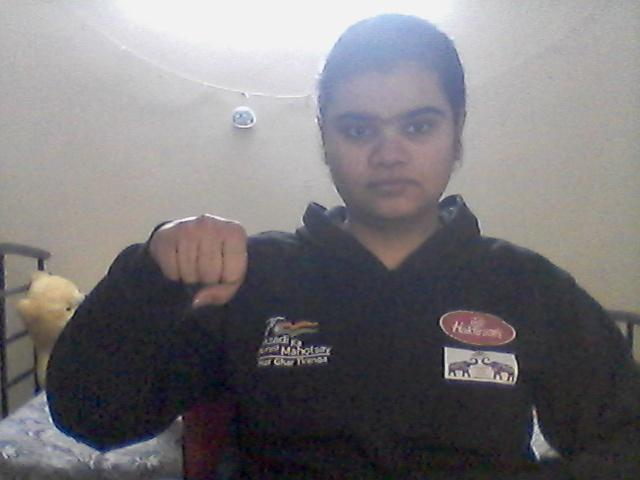yes: (150, 209, 249, 299)
